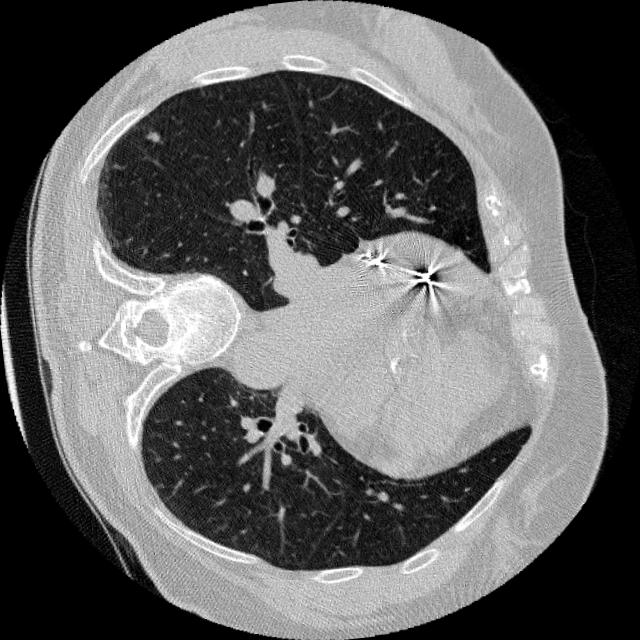nodule: (140, 122, 168, 149)
